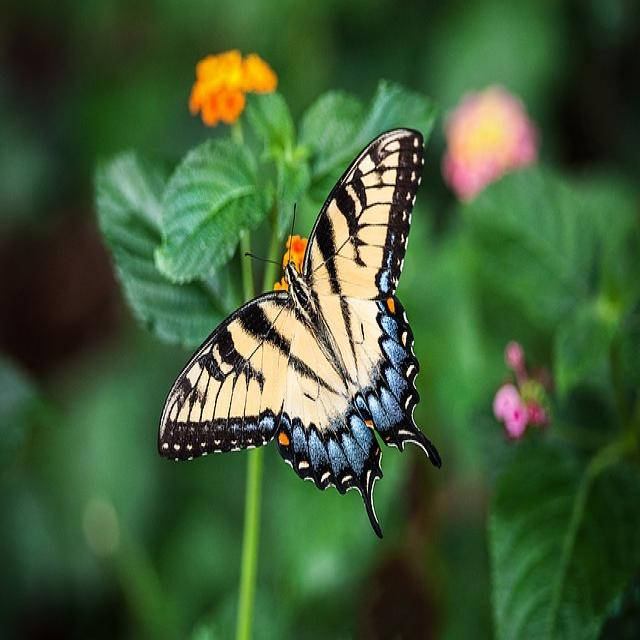butterfly: (159, 130, 441, 536)
